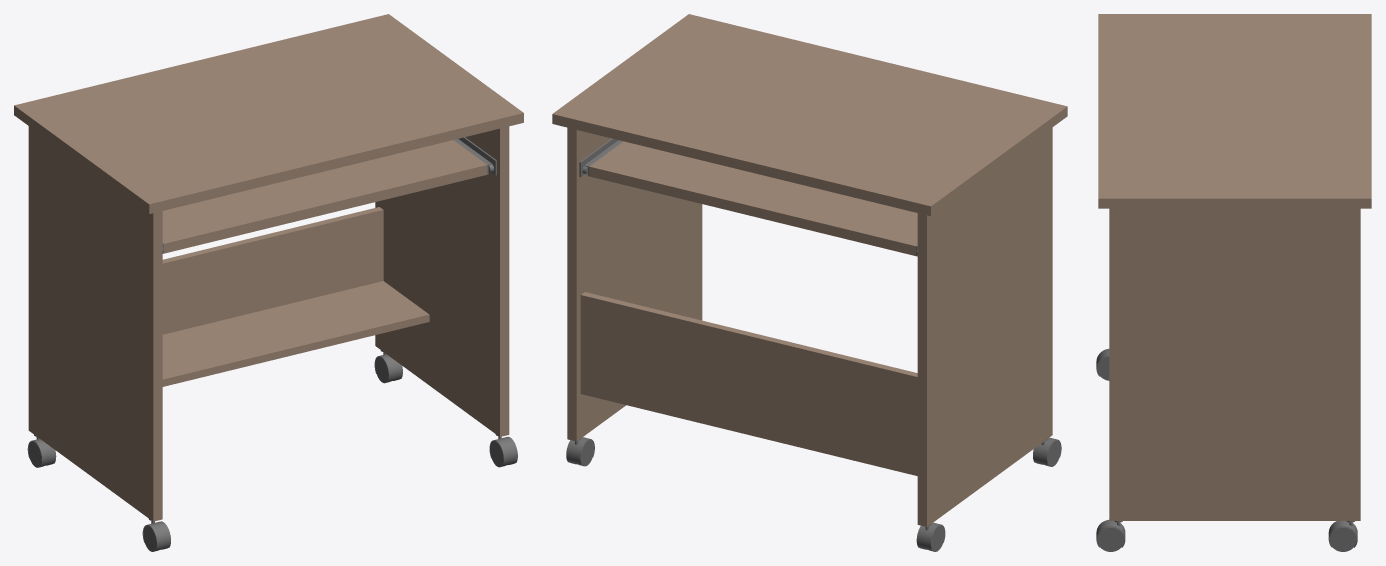
Rendered from 502_デスク.glb.
3 views of the same model, side by side, from view 1: azimuth 30°, elevation 25°; view 2: azimuth 150°, elevation 25°; view 3: azimuth 270°, elevation 25° (orthographic).
Visible parts, largest first — view 1: Body, slider; view 2: Body, slider; view 3: Body.
Boxes of the visible parts, x1,y1,x2,y2 form: Body: (14,14,523,551); slider: (162,139,492,253); Body: (552,14,1067,551); slider: (584,140,917,256); Body: (1096,14,1371,551).
Size of the model in its own units: 0.8 by 0.72 by 0.5033.
